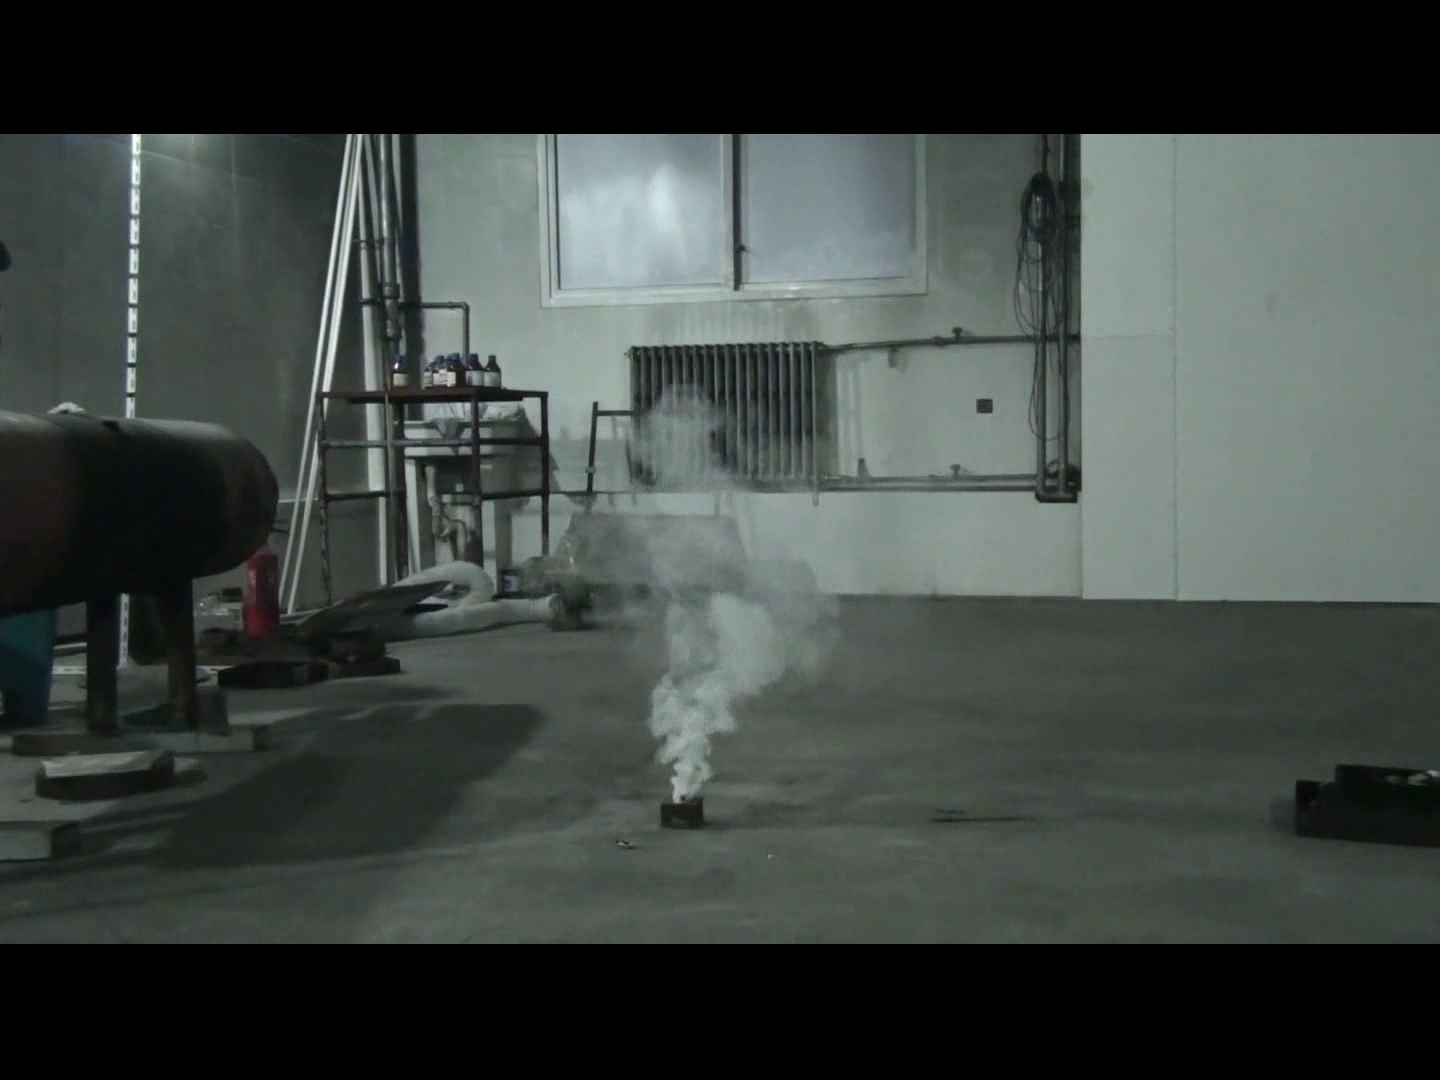smoke: (548, 389, 845, 798)
